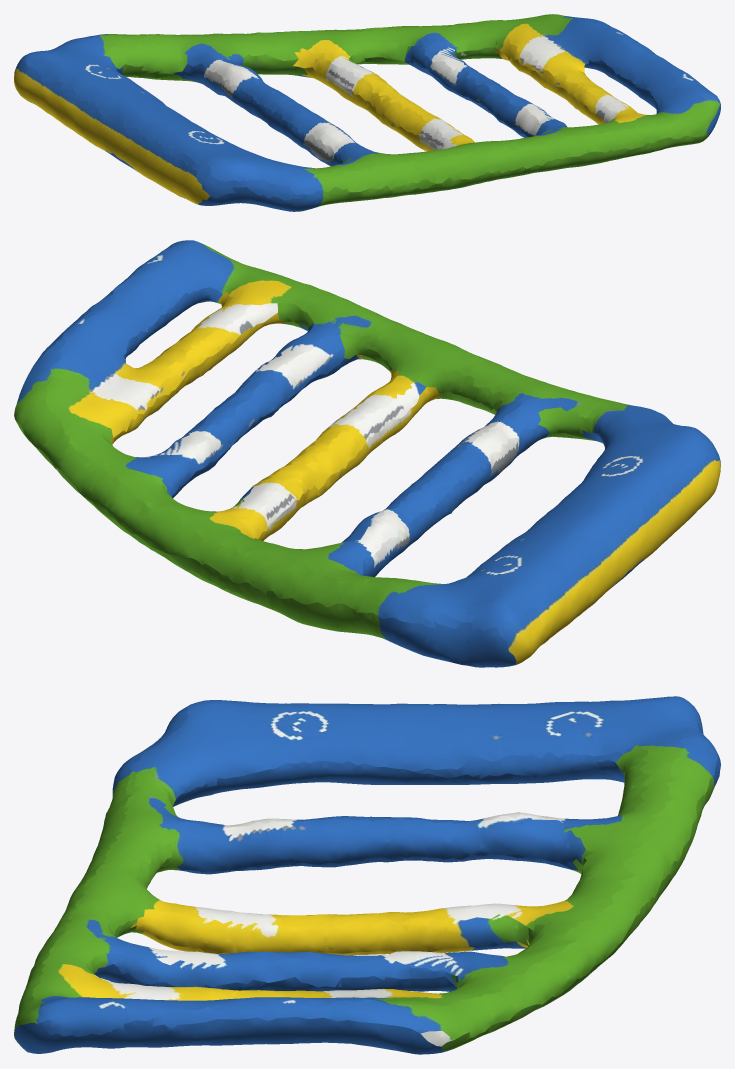
File: hurdle.glb
3 renders of one model, top to bottom at view 1: azimuth 30°, elevation 25°; view 2: azimuth 150°, elevation 25°; view 3: azimuth 270°, elevation 25°, orthographic. The views are drawn at different scales.
Visible parts, largest first — view 1: geometry_0; view 2: geometry_0; view 3: geometry_0.
Part boxes in pixels (bbox=[...]): geometry_0: bbox=[14, 14, 720, 211]; geometry_0: bbox=[14, 240, 720, 667]; geometry_0: bbox=[14, 696, 720, 1054].
Bounding box in the file's own units: 0.8953 × 0.1107 × 0.7831.
Materials: 1 (1 with a texture image).
